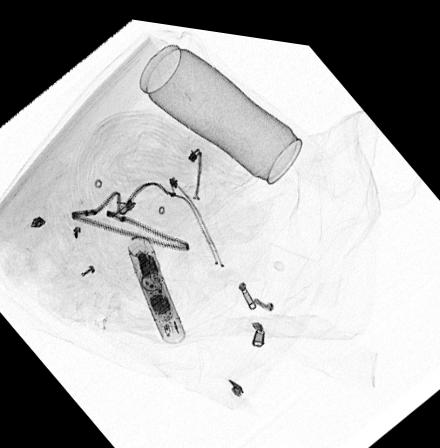Baton: (123, 228, 185, 338)
